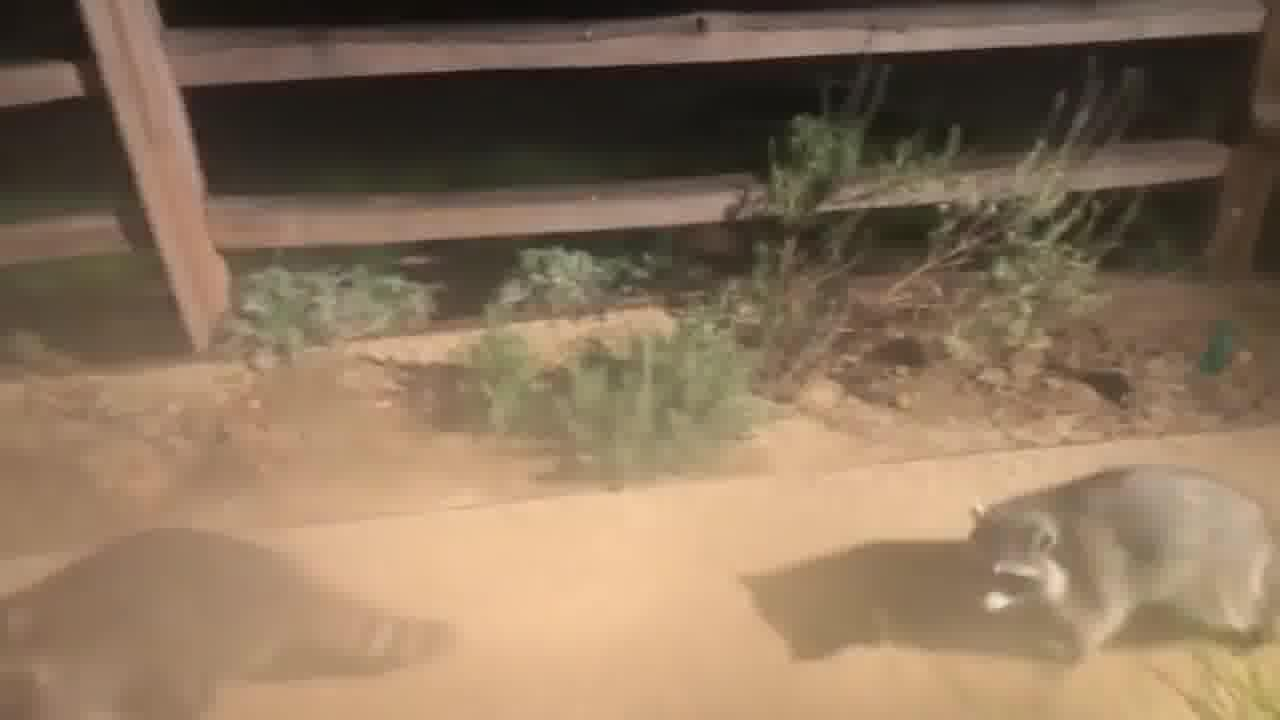raccoon: (0, 515, 466, 720), (967, 459, 1280, 667)
